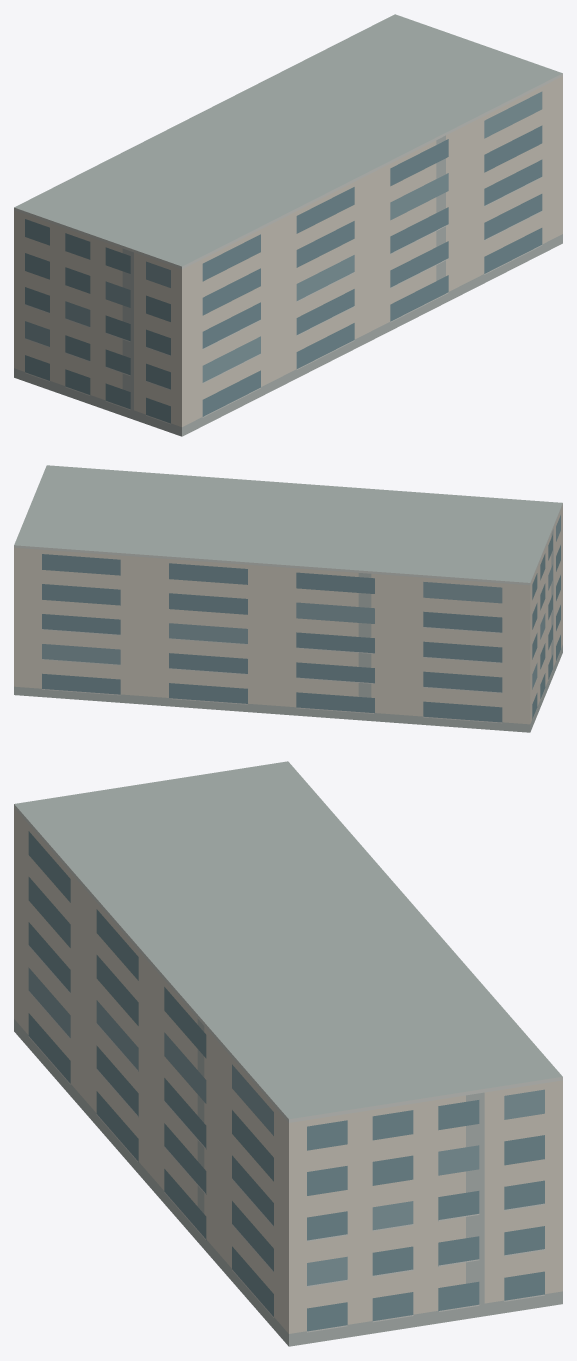
Rendered from residential-f460d6ce-b02e-4bb9-807b-6611d2db3368.glb.
3 renders of one model, top to bottom at view 1: azimuth 30°, elevation 25°; view 2: azimuth 150°, elevation 25°; view 3: azimuth 270°, elevation 25°, orthographic. The views are drawn at different scales.
Visible parts, largest first — view 1: residential-f460d6ce-b02e-4bb9-807b-6611d2db3368.tmp; view 2: residential-f460d6ce-b02e-4bb9-807b-6611d2db3368.tmp; view 3: residential-f460d6ce-b02e-4bb9-807b-6611d2db3368.tmp.
Part boxes in pixels (x1=…): residential-f460d6ce-b02e-4bb9-807b-6611d2db3368.tmp: x1=14, y1=14, x2=562, y2=436; residential-f460d6ce-b02e-4bb9-807b-6611d2db3368.tmp: x1=14, y1=465, x2=562, y2=732; residential-f460d6ce-b02e-4bb9-807b-6611d2db3368.tmp: x1=14, y1=761, x2=562, y2=1346.
Bounding box in the file's own units: 51.52 × 15.25 × 33.37.
